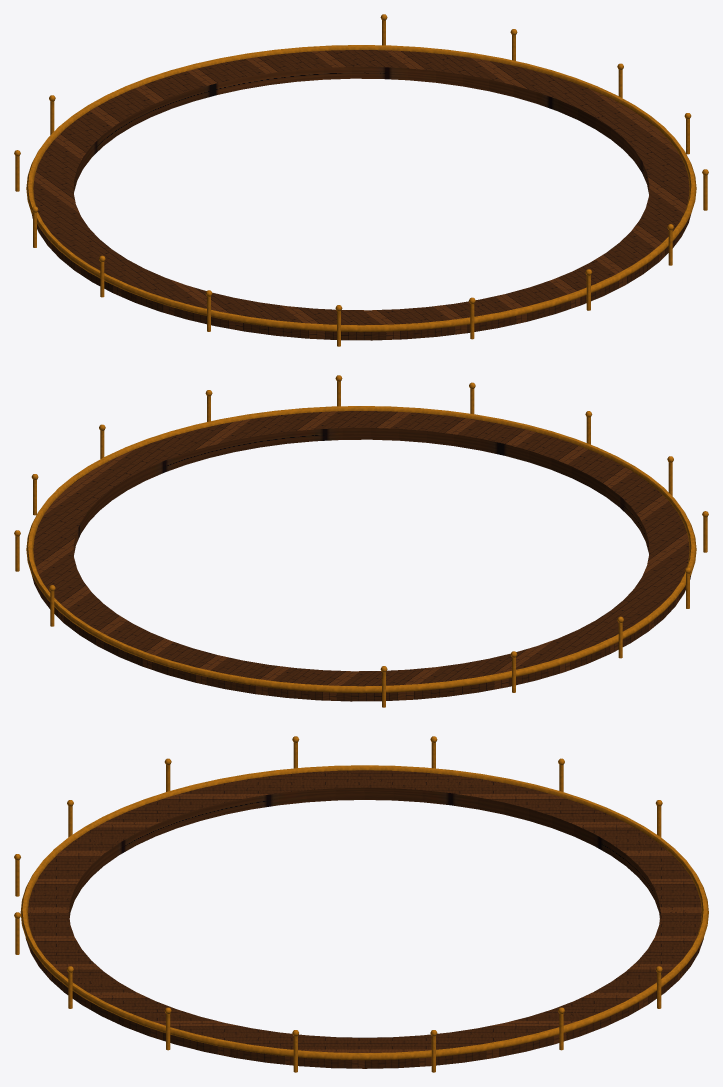
Rendered from carousel-base.glb.
3 views of the same model, one above another, from view 1: azimuth 30°, elevation 25°; view 2: azimuth 150°, elevation 25°; view 3: azimuth 270°, elevation 25° (orthographic). The views are drawn at different scales.
Parts seen in each view (by area): view 1: carousel-base; view 2: carousel-base; view 3: carousel-base.
Part boxes in pixels (x1=…): carousel-base: x1=14, y1=14, x2=708, y2=346; carousel-base: x1=14, y1=375, x2=708, y2=707; carousel-base: x1=14, y1=736, x2=708, y2=1072.
Size of the model in its own units: 15.63 by 1.03 by 15.51.
2 materials, 2 textured.
